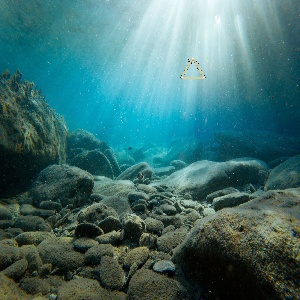triangle: (177, 56, 207, 80)
